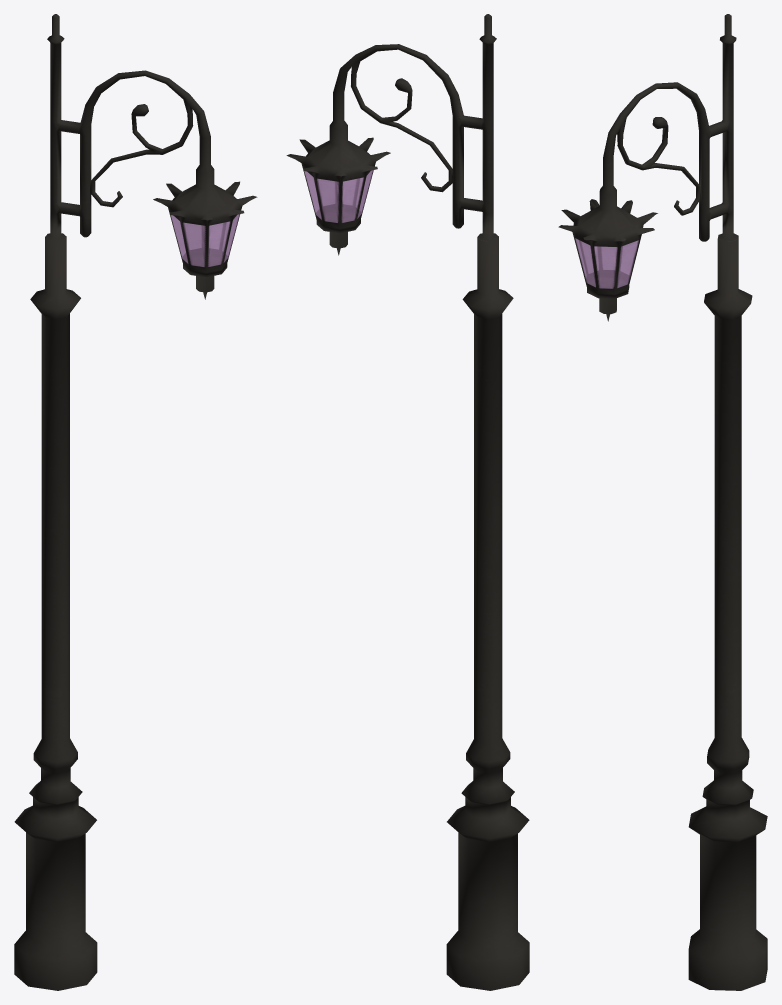
The model's file is lamp.glb.
3 views of the same model, side by side, from view 1: azimuth 30°, elevation 25°; view 2: azimuth 210°, elevation 25°; view 3: azimuth 270°, elevation 25° (orthographic).
Parts seen in each view (by area): view 1: LampPost_LPoly__0; view 2: LampPost_LPoly__0; view 3: LampPost_LPoly__0.
Part boxes in pixels (bbox=[...]): LampPost_LPoly__0: bbox=[14, 14, 257, 990]; LampPost_LPoly__0: bbox=[286, 14, 529, 990]; LampPost_LPoly__0: bbox=[558, 14, 767, 990].
Size of the model in its own units: 0.1619 by 0.8879 by 0.1757.
Materials: 1 (1 with a texture image).
